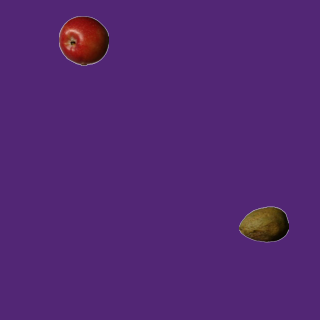Apple Braeburn: (58, 15, 108, 65)
Papaya: (238, 199, 288, 249)
